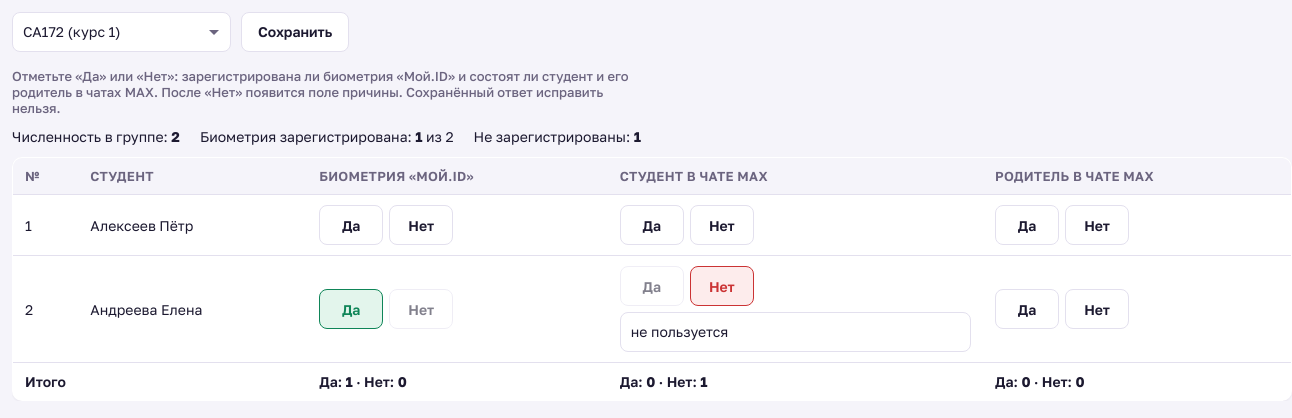
Test: MyIdPanel — «Мой ID»: две кнопки «Да» / «Нет» › итоги Да / Нет пересчитываются сразу, до сохранения
Expected: the text "Алексеев Пётр" is shown, [78,194,307,256]
Expected: the element that starts with "Численность в группе:" shows "Биометрия зарегистрирована: 1 из 2", [12,128,641,145]
Click the 1st button "Да".
click(351, 225)  # box [319,205,383,245]
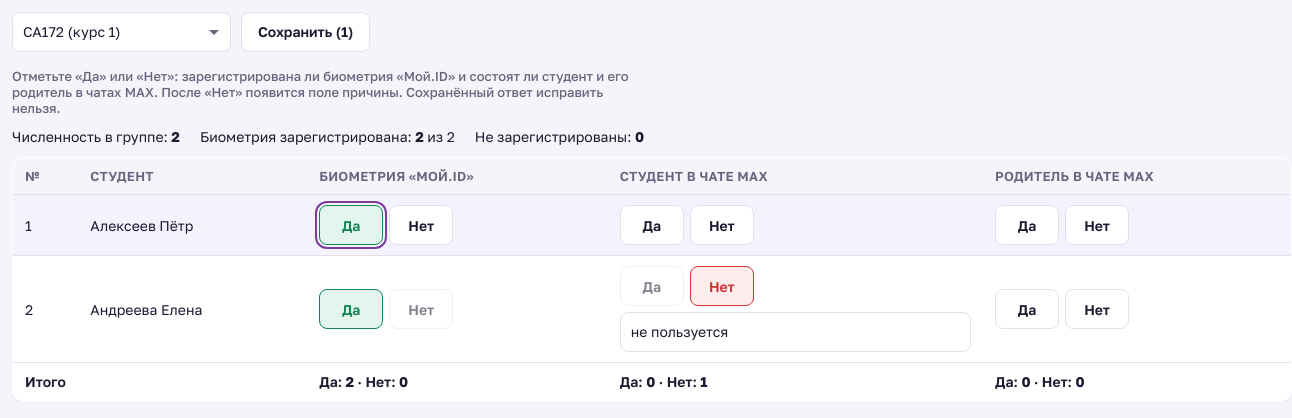
Result: the element that starts with "Численность в группе:" shows "Биометрия зарегистрирована: 2 из 2" at [12,128,644,145]
Result: the row "Итого Да: 2 · Нет: 0 Да: 0 · Нет: 1 Да: 0 · Нет: 0" is shown at [12,362,1291,400]
